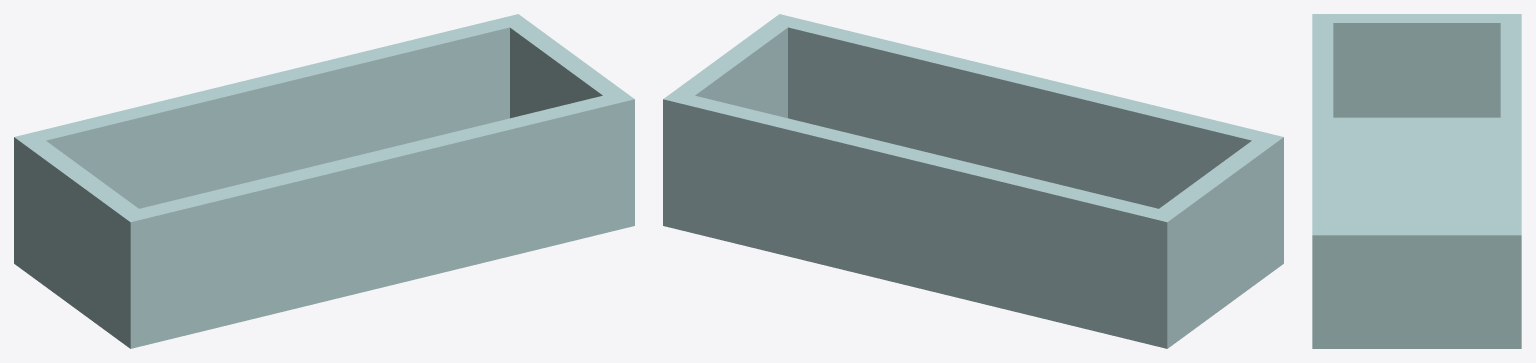
The model's file is Arbeitszimmer.fbx.
3 views of the same model, side by side, from view 1: azimuth 30°, elevation 25°; view 2: azimuth 150°, elevation 25°; view 3: azimuth 270°, elevation 25° (orthographic). The views are drawn at different scales.
Visible parts, largest first — view 1: Arbeitszimmerwand1, Arbeitszimmerwand3, Arbeitszimmerwand4, Arbeitszimmerboden, Arbeitszimmerwand2; view 2: Arbeitszimmerwand3, Arbeitszimmerwand1, Arbeitszimmerwand4, Arbeitszimmerboden, Arbeitszimmerwand2; view 3: Arbeitszimmerboden, Arbeitszimmerwand2, Arbeitszimmerwand4, Arbeitszimmerwand3, Arbeitszimmerwand1.
Part boxes in pixels (x1=…): Arbeitszimmerwand1: x1=130, y1=95, x2=634, y2=327; Arbeitszimmerwand3: x1=15, y1=14, x2=517, y2=208; Arbeitszimmerwand4: x1=14, y1=137, x2=138, y2=327; Arbeitszimmerboden: x1=14, y1=205, x2=634, y2=348; Arbeitszimmerwand2: x1=510, y1=14, x2=634, y2=118; Arbeitszimmerwand3: x1=663, y1=95, x2=1167, y2=327; Arbeitszimmerwand1: x1=780, y1=14, x2=1282, y2=208; Arbeitszimmerwand4: x1=1159, y1=137, x2=1283, y2=327; Arbeitszimmerboden: x1=663, y1=205, x2=1283, y2=348; Arbeitszimmerwand2: x1=663, y1=14, x2=787, y2=118; Arbeitszimmerboden: x1=1312, y1=117, x2=1521, y2=348; Arbeitszimmerwand2: x1=1312, y1=226, x2=1521, y2=329; Arbeitszimmerwand4: x1=1313, y1=14, x2=1520, y2=117; Arbeitszimmerwand3: x1=1500, y1=14, x2=1521, y2=234; Arbeitszimmerwand1: x1=1312, y1=14, x2=1333, y2=234.
Bounding box in the file's own units: 5 × 1.2 × 2.
